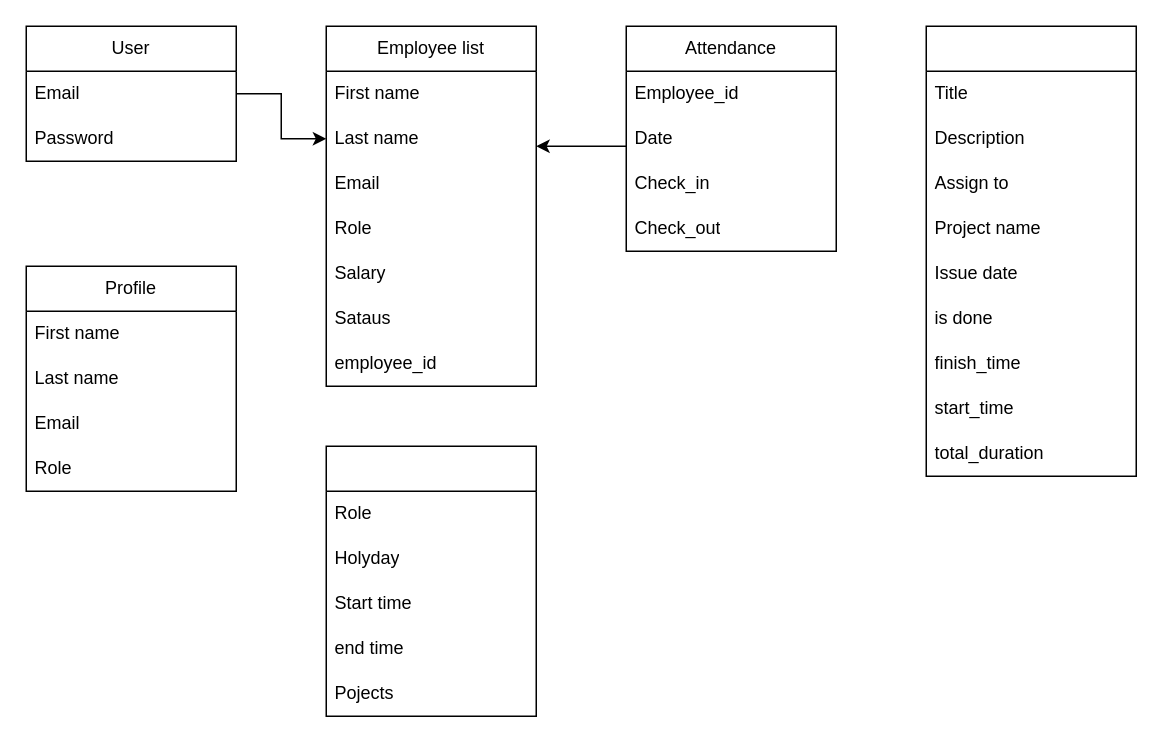
Image size: 1163x743. Some labels were removed from this diagram. The box of each missing label's shape, as (x1, y1, x2, y2) in pixels:
Settings: (325, 445, 536, 716)
Todo: (925, 25, 1136, 476)
